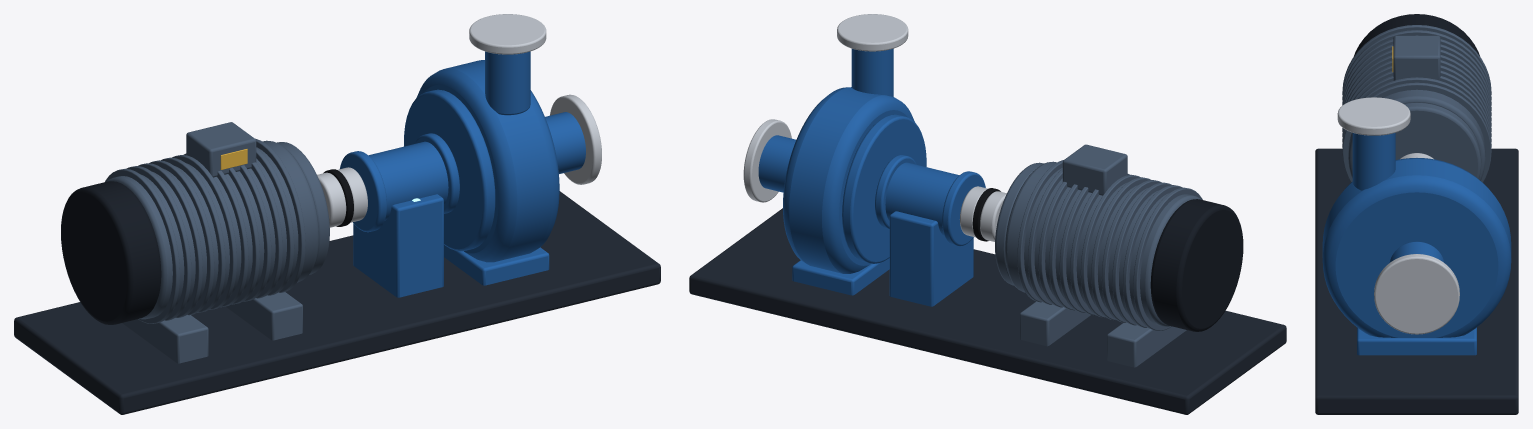
Rendered from pump.glb.
3 renders of one model, left to right at view 1: azimuth 30°, elevation 25°; view 2: azimuth 150°, elevation 25°; view 3: azimuth 270°, elevation 25°, orthographic. The views are drawn at different scales.
Parts seen in each view (by area): view 1: P_Base, P_MotorFins, P_Volute, P_FanCover, P_MotorBody, P_BackPlate, P_BearingPedestal, P_BearingFrame, P_Discharge, P_DischargeFlange, P_MotorFoot0, P_TerminalBox (+9 smaller); view 2: P_Base, P_MotorFins, P_Volute, P_FanCover, P_MotorBody, P_BackPlate, P_BearingPedestal, P_BearingFrame, P_TerminalBox, P_DischargeFlange, P_MotorFoot0, P_MotorFoot1 (+9 smaller); view 3: P_Volute, P_Base, P_MotorFins, P_SuctionFlange, P_MotorDE, P_CasingFoot, P_DischargeFlange, P_Discharge, P_TerminalBox, P_MotorBody, P_FanCover, P_Suction.
Boxes of the visible parts, x1,y1,x2,y2 form: P_Base: [14, 191, 660, 414]; P_MotorFins: [105, 138, 305, 323]; P_Volute: [416, 60, 559, 262]; P_FanCover: [61, 181, 161, 324]; P_MotorBody: [106, 140, 318, 319]; P_BackPlate: [404, 89, 495, 251]; P_BearingPedestal: [353, 194, 443, 297]; P_BearingFrame: [368, 141, 448, 220]; P_Discharge: [485, 51, 530, 115]; P_DischargeFlange: [469, 14, 546, 54]; P_MotorFoot0: [122, 315, 208, 363]; P_TerminalBox: [186, 122, 256, 177]; P_Base: [689, 208, 1286, 414]; P_MotorFins: [1017, 160, 1202, 330]; P_Volute: [783, 87, 914, 273]; P_FanCover: [1150, 199, 1243, 331]; P_MotorBody: [1005, 161, 1201, 326]; P_BackPlate: [842, 114, 926, 263]; P_BearingPedestal: [889, 211, 973, 306]; P_BearingFrame: [885, 162, 959, 235]; P_TerminalBox: [1062, 144, 1127, 195]; P_DischargeFlange: [837, 14, 908, 51]; P_MotorFoot0: [1107, 322, 1186, 367]; P_MotorFoot1: [1020, 301, 1090, 346]; P_Volute: [1322, 158, 1511, 337]; P_Base: [1315, 148, 1518, 414]; P_MotorFins: [1342, 25, 1491, 182]; P_SuctionFlange: [1374, 254, 1459, 334]; P_MotorDE: [1395, 102, 1481, 179]; P_CasingFoot: [1357, 327, 1476, 355]; P_DischargeFlange: [1337, 97, 1410, 135]; P_Discharge: [1352, 133, 1395, 190]; P_TerminalBox: [1393, 35, 1440, 80]; P_MotorBody: [1348, 89, 1485, 180]; P_FanCover: [1354, 14, 1479, 55]; P_Suction: [1389, 241, 1444, 262].
Size of the model in its own units: 2.75 by 1.27 by 0.95.
